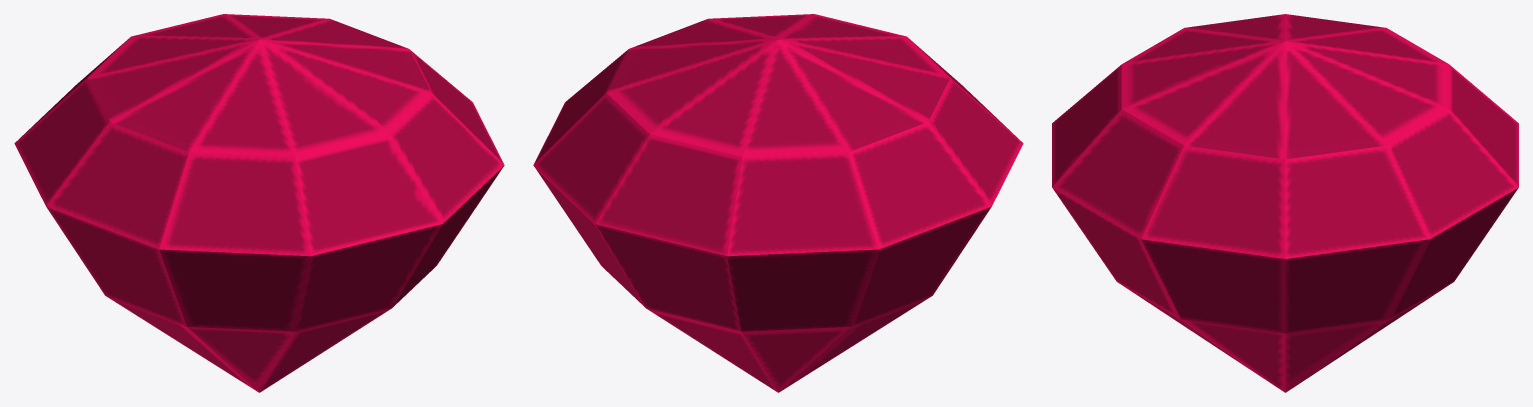
Rendered from Gem.fbx.
3 views of the same model, side by side, from view 1: azimuth 30°, elevation 25°; view 2: azimuth 150°, elevation 25°; view 3: azimuth 270°, elevation 25° (orthographic).
Parts seen in each view (by area): view 1: Gem.001; view 2: Gem.001; view 3: Gem.001.
Part boxes in pixels (x1,y1,x2,y2): Gem.001: (14,14,504,392); Gem.001: (533,14,1023,392); Gem.001: (1052,14,1518,392).
Size of the model in its own units: 24.24 by 19.17 by 23.05.
Materials: 1 (1 with a texture image).
